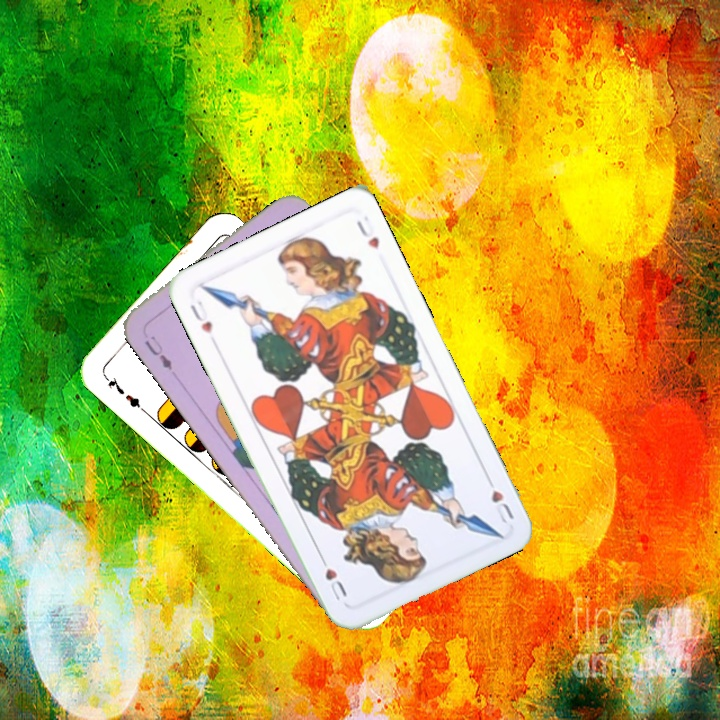E7: (100, 371, 148, 415)
EU: (140, 331, 175, 373)
HU: (482, 471, 517, 528), (186, 296, 215, 337)
